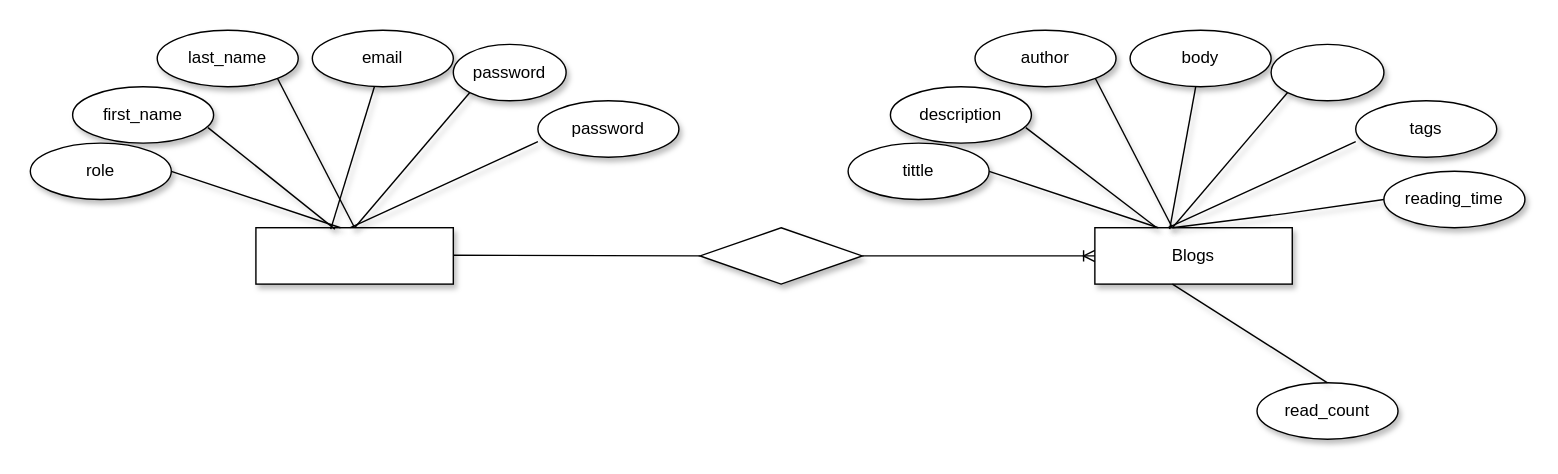
Image size: 1558x474. Some labels were removed from this diagram. The shapes that lost their labels are listed below. From the top down, each one's centre as x and y in pixels, then its label:
point (1328, 74): state
point (355, 257): User
point (782, 257): has
